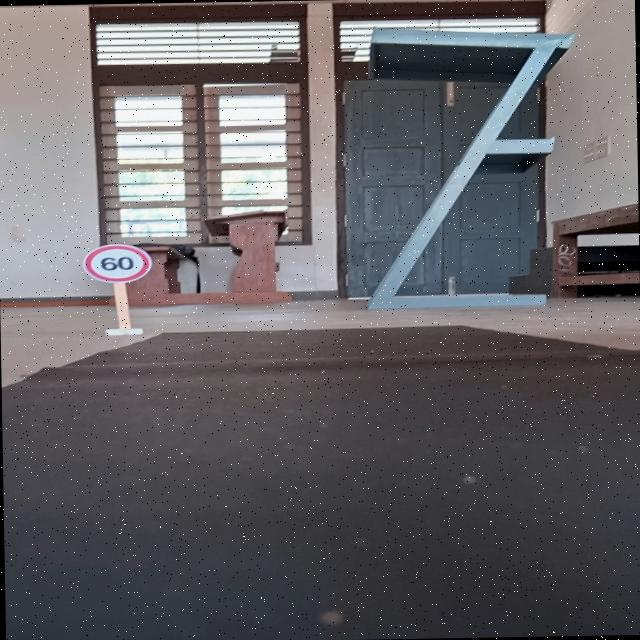Speed60: (80, 242, 154, 284)
